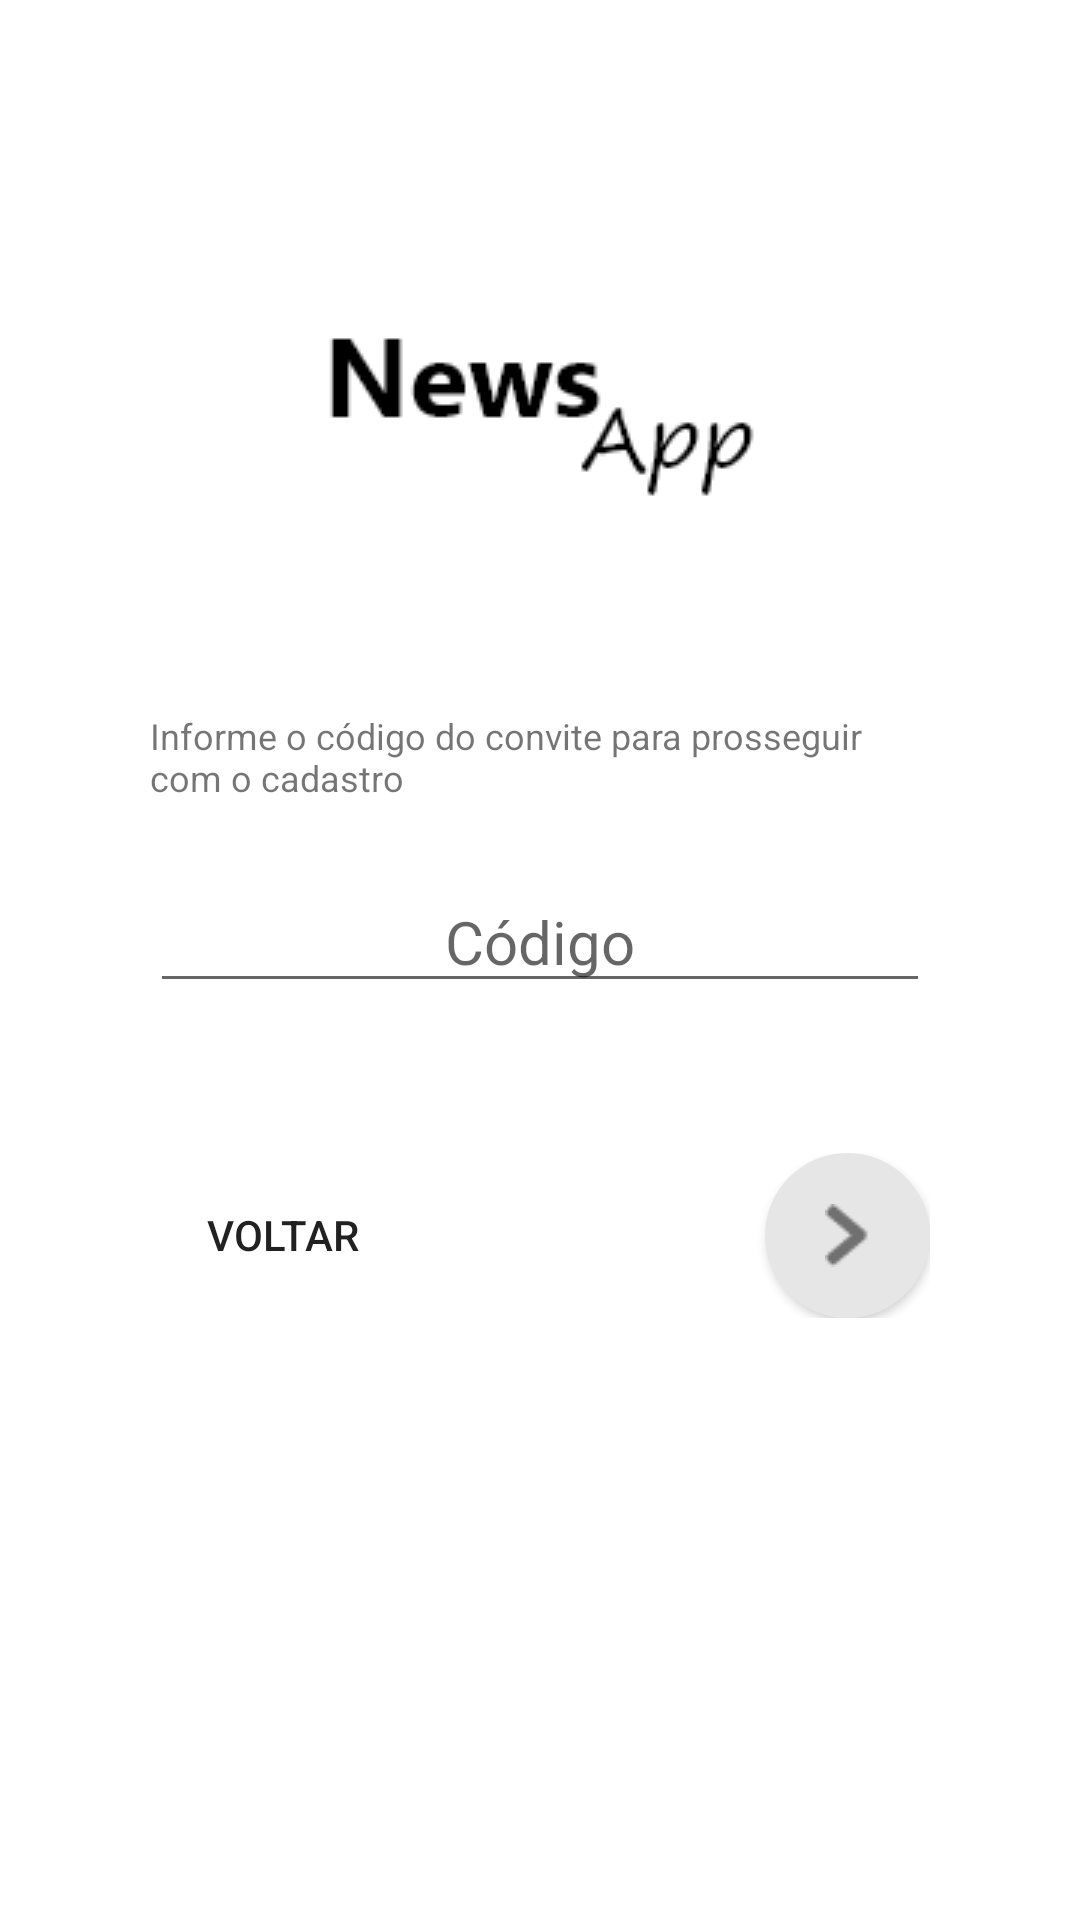

Screen size 1080 × 1920. Icon name, then its box in pixels as bbox(x1, y1, x2, y2):
right: bbox(765, 1153, 930, 1318)
